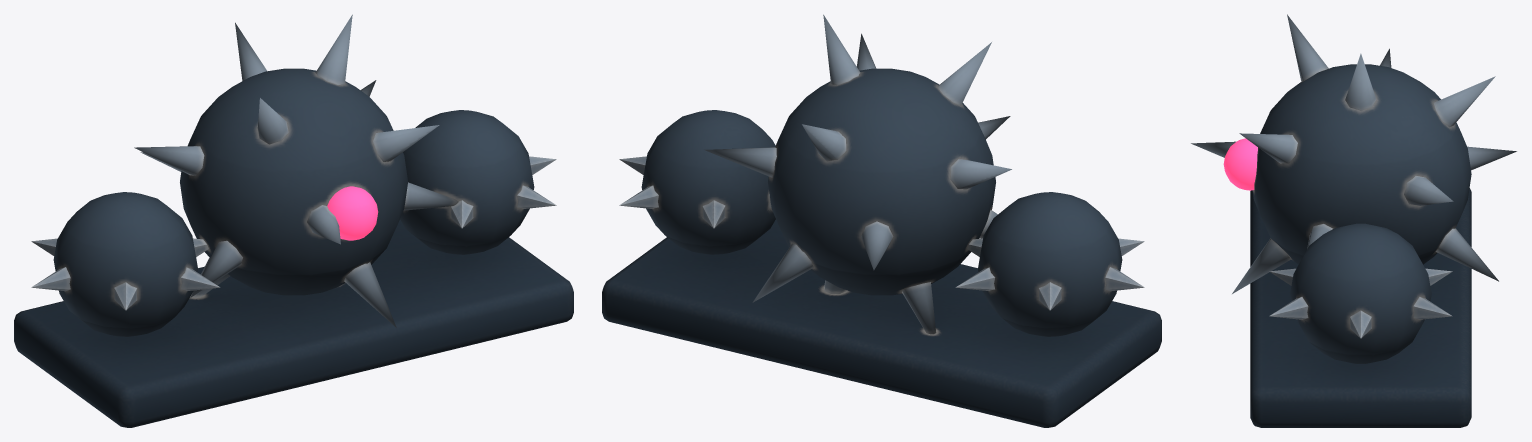
File: mu_obstacle_sea_mine.glb
3 renders of one model, left to right at view 1: azimuth 30°, elevation 25°; view 2: azimuth 150°, elevation 25°; view 3: azimuth 270°, elevation 25°, orthographic. The views are drawn at different scales.
Parts seen in each view (by area): view 1: mu_obstacle_sea_mine; view 2: mu_obstacle_sea_mine; view 3: mu_obstacle_sea_mine.
Part boxes in pixels (x1,y1,x2,y2): mu_obstacle_sea_mine: [14, 14, 573, 427]; mu_obstacle_sea_mine: [602, 14, 1161, 427]; mu_obstacle_sea_mine: [1191, 14, 1516, 427].
Size of the model in its own units: 2.66 by 1.49 by 1.48.
4 materials, 4 textured.
